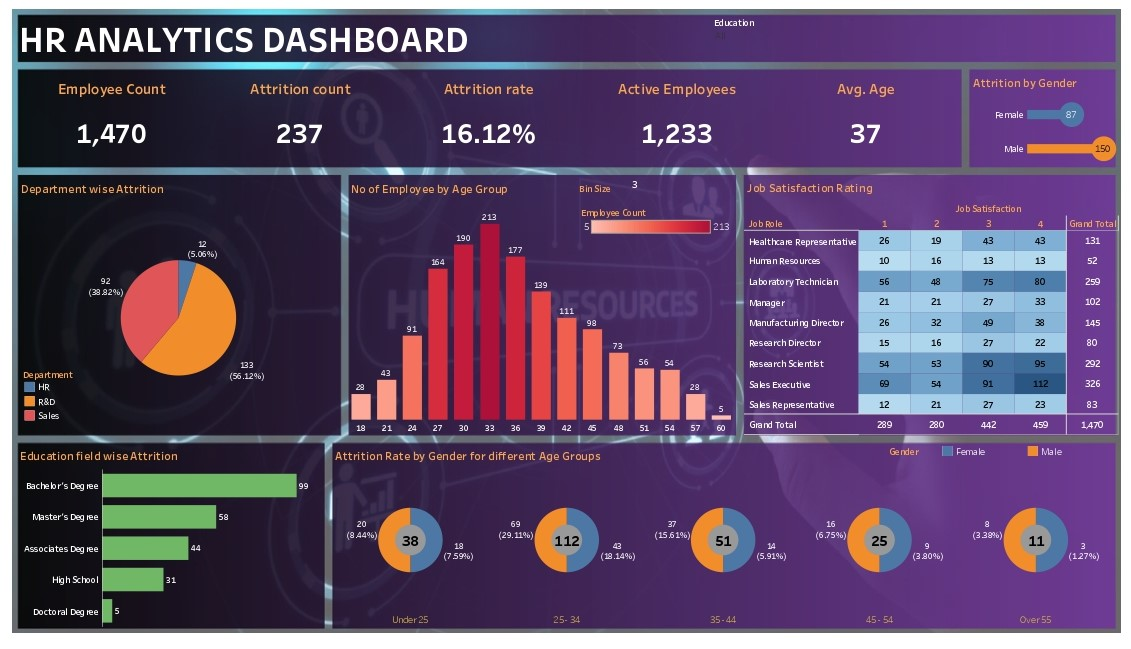

What the dashboard file says about the page in this screenshot:
{"tool":"tableau","page":{"name":"HR ANALYTICS DASHBOARD","canvas":[1580,900],"ordinal":0},"visuals":[{"type":"image","param":"E:/Data Science Projects/Tableau/HR background.pptx.png","box":[8,8,1564,884]},{"type":"text","box":[19,18,849,66]},{"type":"filter","title":"Attrition Rate by Gender for different Age Groups","param":"[federated.1354jcf0s37mpj10oy98m10cwdqx].[none:Education:nk]","box":[997,20,160,63]},{"type":"worksheet","title":"KPI","mark":"Automatic","box":[19,96,1324,138]},{"type":"worksheet","title":"Attrition by Gender","mark":"Automatic","rows":["Gender"],"cols":["Calculation_1208653614056345600","Calculation_1208653614056345600"],"box":[1357,97,210,134]},{"type":"worksheet","title":"Job Satisfaction Rating","mark":"Square","rows":["Job Role"],"cols":["Job Satisfaction"],"box":[1040,244,526,366]},{"type":"worksheet","title":"Department wise Attrition","mark":"Pie","box":[20,245,450,362]},{"type":"worksheet","title":"No of Employee by Age Group","mark":"Automatic","rows":["Employee Count"],"cols":["Age (bin)"],"box":[483,245,543,363]},{"type":"parameter","param":"[Parameters].[Parameter 1]","box":[808,248,217,29]},{"type":"legend","title":"No of Employee by Age Group","param":"[federated.1354jcf0s37mpj10oy98m10cwdqx].[sum:Employee Count:qk]","box":[810,284,213,46]},{"type":"legend","title":"Department wise Attrition","param":"[federated.1354jcf0s37mpj10oy98m10cwdqx].[none:Department:nk]","box":[26,513,140,85]},{"type":"worksheet","title":"Education field wise Attrition","mark":"Automatic","rows":["Education"],"cols":["Calculation_1208653614056345600"],"box":[18,620,429,259]},{"type":"worksheet","title":"Attrition Rate by Gender for different Age Groups","mark":"Pie","rows":["Calculation_1208653614093164548","Calculation_1208653614093164548"],"cols":["CF_age band"],"box":[461,620,1098,258]},{"type":"legend","title":"Attrition Rate by Gender for different Age Groups","param":"[federated.1354jcf0s37mpj10oy98m10cwdqx].[none:Gender:nk]","box":[1243,622,315,30]}]}

Visuals, with their boxes in screenshot pixels (x1, y1, x2, y2), scaled from the page's 1580x900 canvas onto the 1131x649 screenshot:
image: left=6, top=6, right=1125, bottom=643
text: left=14, top=13, right=621, bottom=61
"Attrition Rate by Gender for different Age Groups" filter: left=714, top=14, right=828, bottom=60
"KPI" worksheet: left=14, top=69, right=961, bottom=169
"Attrition by Gender" worksheet: left=971, top=70, right=1122, bottom=167
"Job Satisfaction Rating" worksheet (Square marks): left=744, top=176, right=1121, bottom=440
"Department wise Attrition" worksheet (Pie marks): left=14, top=177, right=336, bottom=438
"No of Employee by Age Group" worksheet: left=346, top=177, right=734, bottom=438
parameter: left=578, top=179, right=734, bottom=200
"No of Employee by Age Group" legend: left=580, top=205, right=732, bottom=238
"Department wise Attrition" legend: left=19, top=370, right=119, bottom=431
"Education field wise Attrition" worksheet: left=13, top=447, right=320, bottom=634
"Attrition Rate by Gender for different Age Groups" worksheet (Pie marks): left=330, top=447, right=1116, bottom=633
"Attrition Rate by Gender for different Age Groups" legend: left=890, top=449, right=1115, bottom=470
